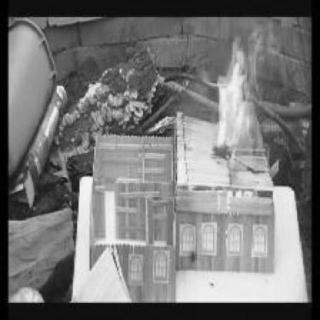Fire: (216, 24, 286, 158)
